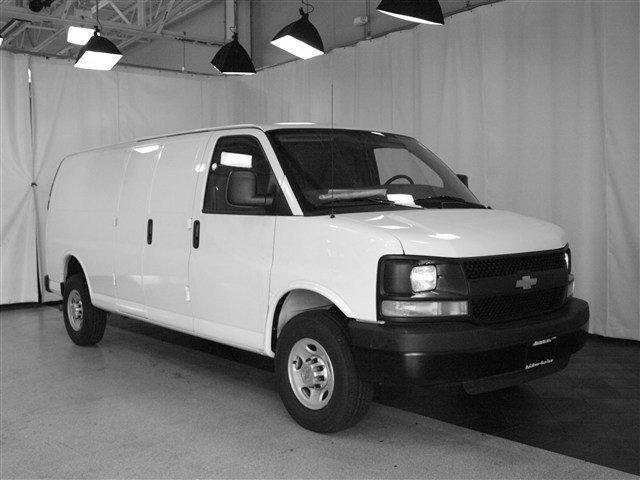car: (42, 120, 591, 438)
